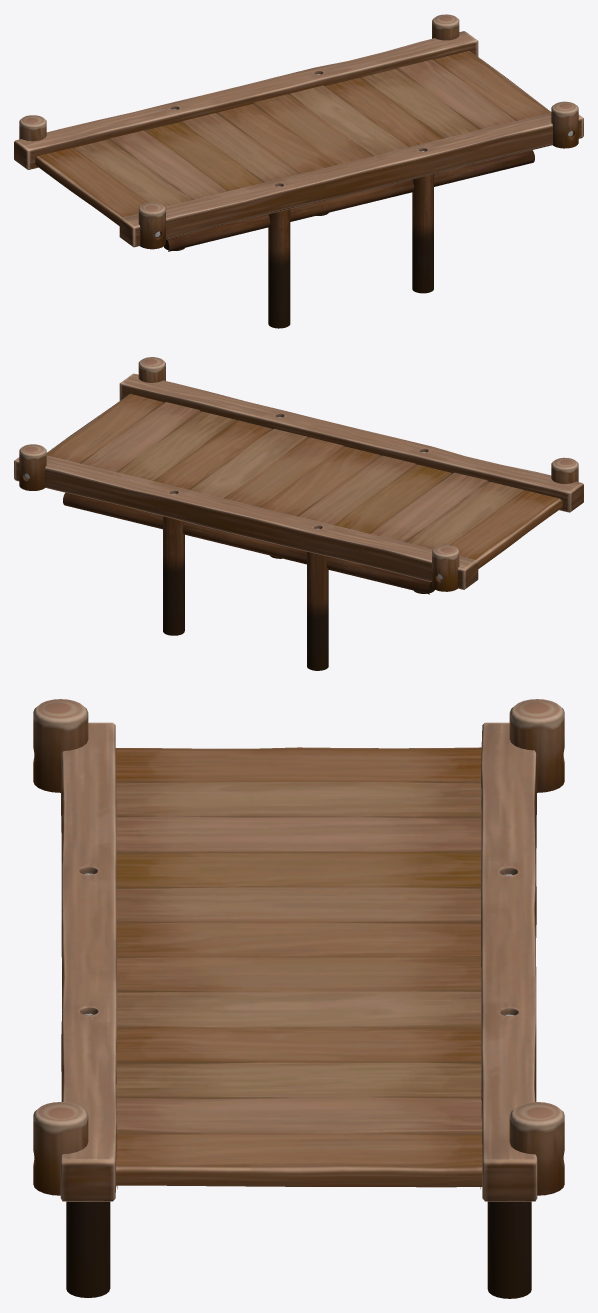
File: bridge-arch-wood.glb
The picture shows the model from 3 angles, top to bottom: view 1: azimuth 30°, elevation 25°; view 2: azimuth 150°, elevation 25°; view 3: azimuth 270°, elevation 25°; orthographic projection. The views are drawn at different scales.
Visible parts, largest first — view 1: Bolt1_1__mBridgeWood; view 2: Bolt1_1__mBridgeWood; view 3: Bolt1_1__mBridgeWood.
Boxes of the visible parts, bbox=[...] form: Bolt1_1__mBridgeWood: bbox=[14, 14, 583, 328]; Bolt1_1__mBridgeWood: bbox=[14, 357, 583, 670]; Bolt1_1__mBridgeWood: bbox=[33, 699, 564, 1298].
Bounding box in the file's own units: 56.91 × 18.56 × 29.
Materials: 1 (1 with a texture image).
